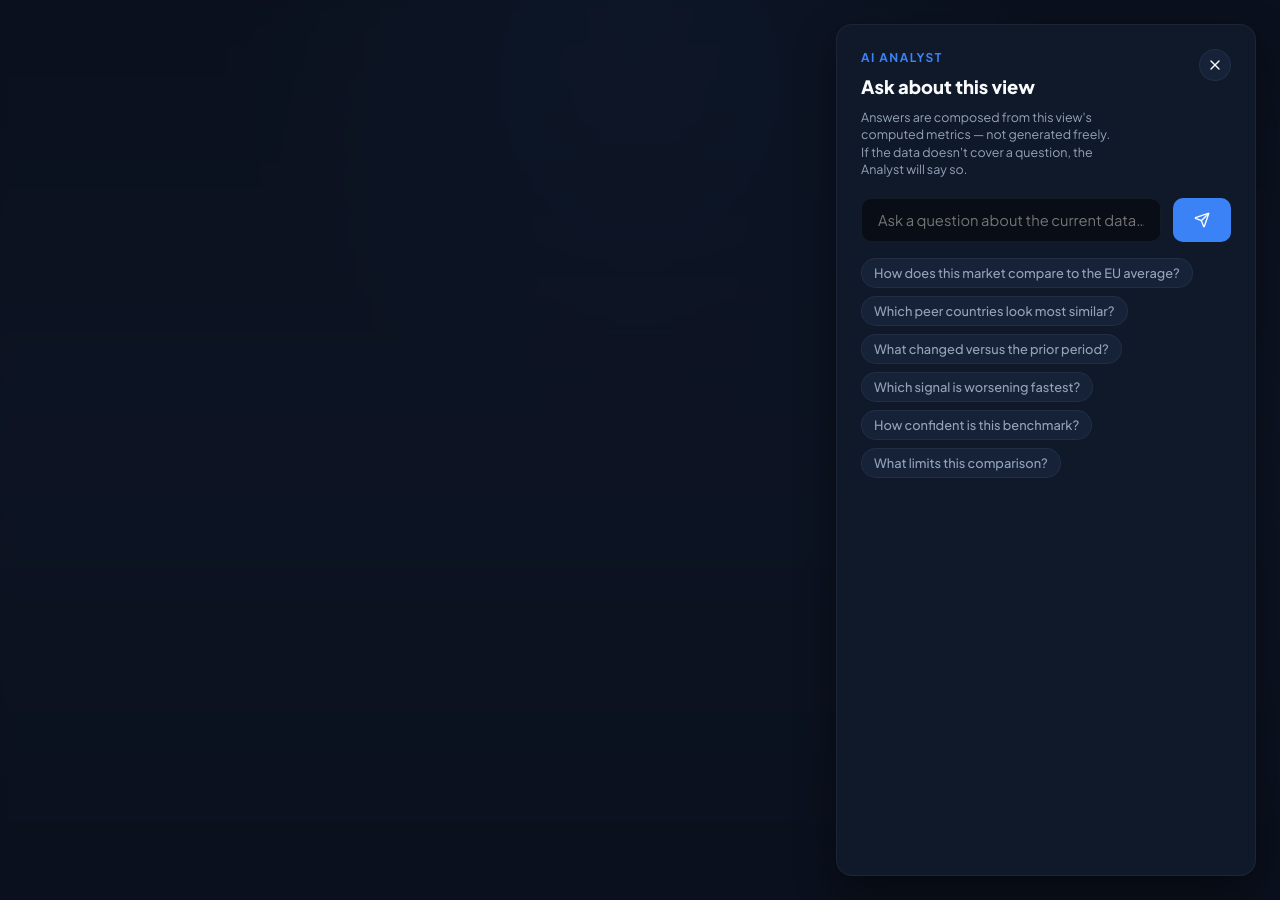
Test case: CopilotPanel › hides suggested questions after response received
In the field with placeholder "Ask a question about the current data…": {"x": 1011, "y": 220} [861,198,1161,242], type "test question"
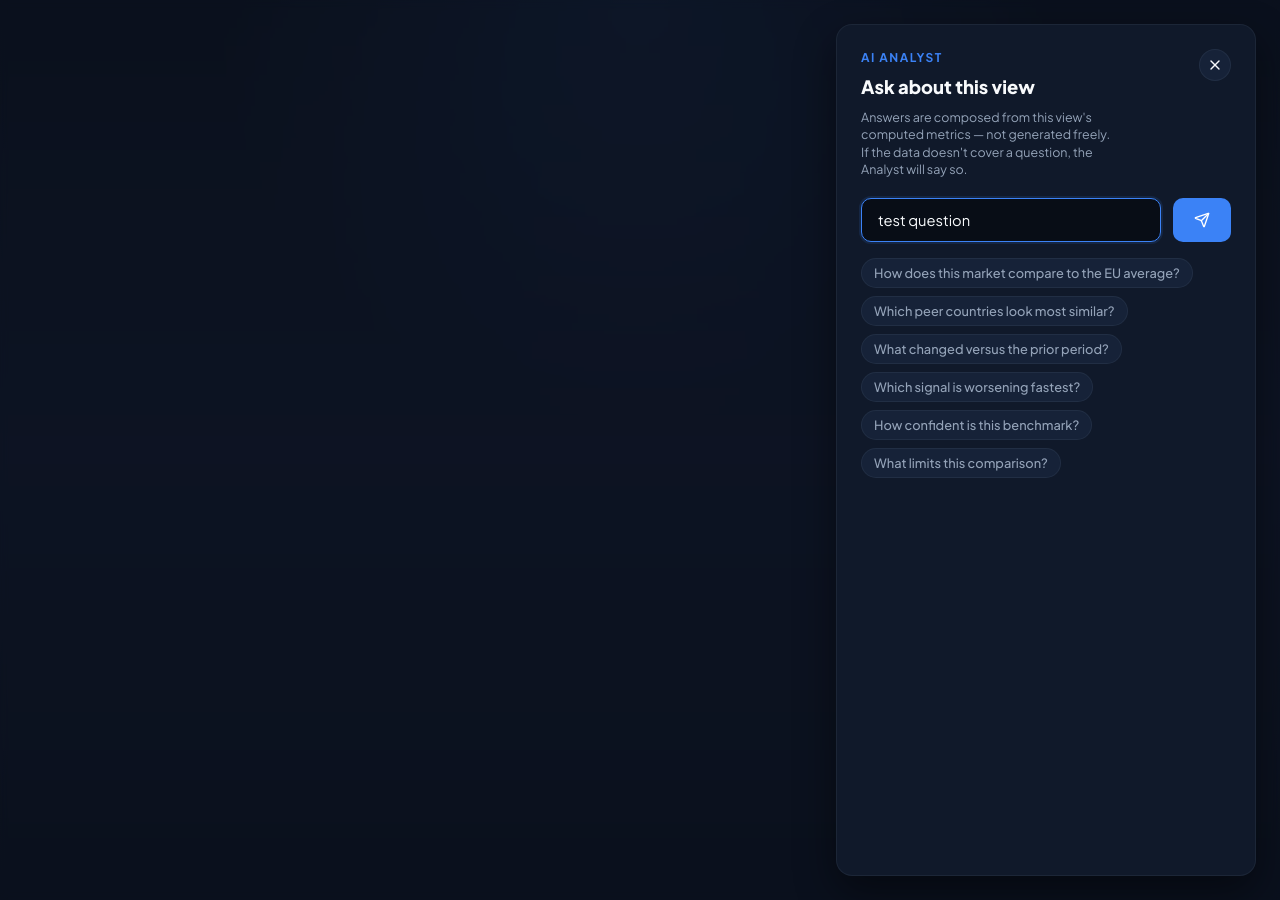
Press Enter
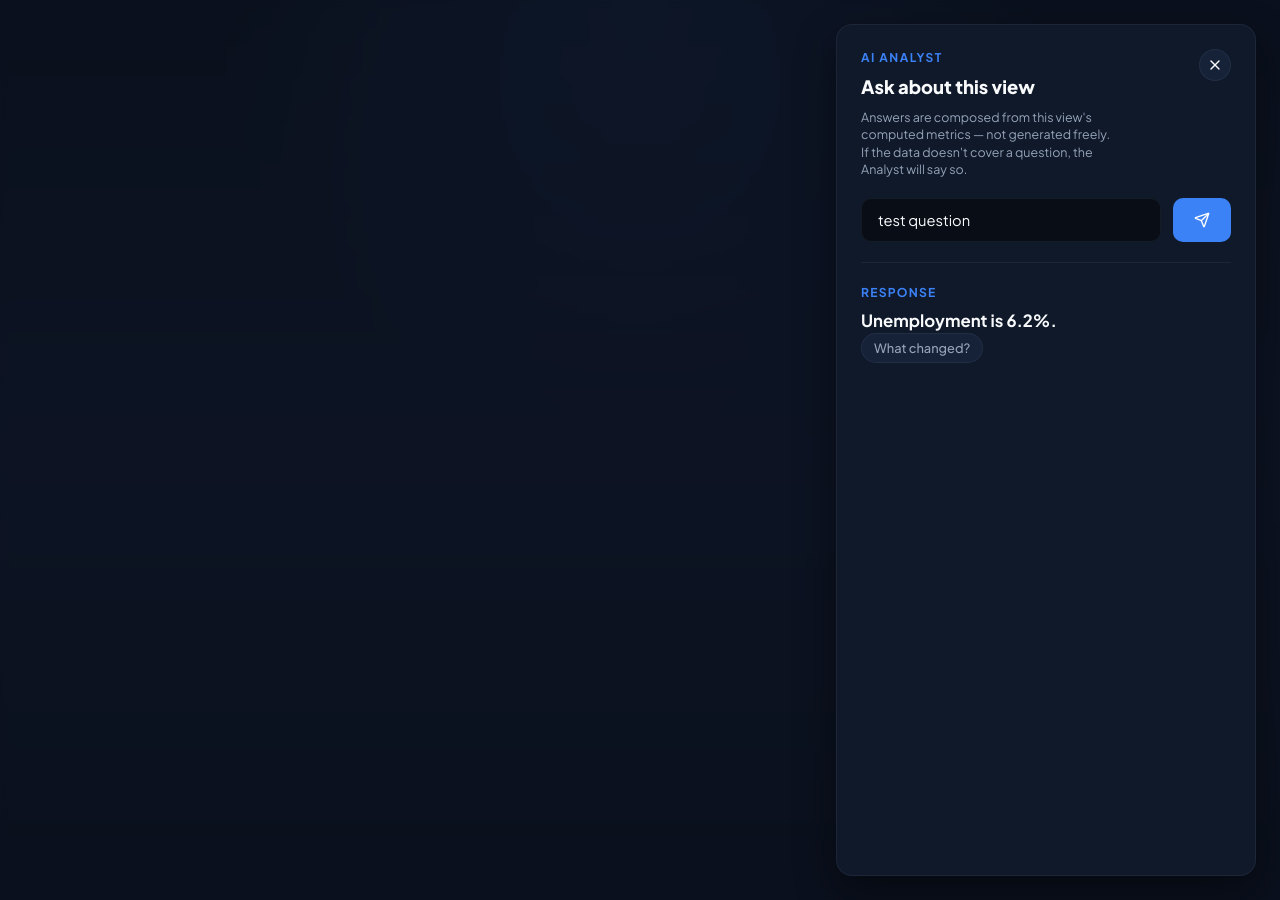
Expected: the text "Response" is shown, [861,284,936,300]
Expected: the button "How does this market compare to the EU average?" is gone
